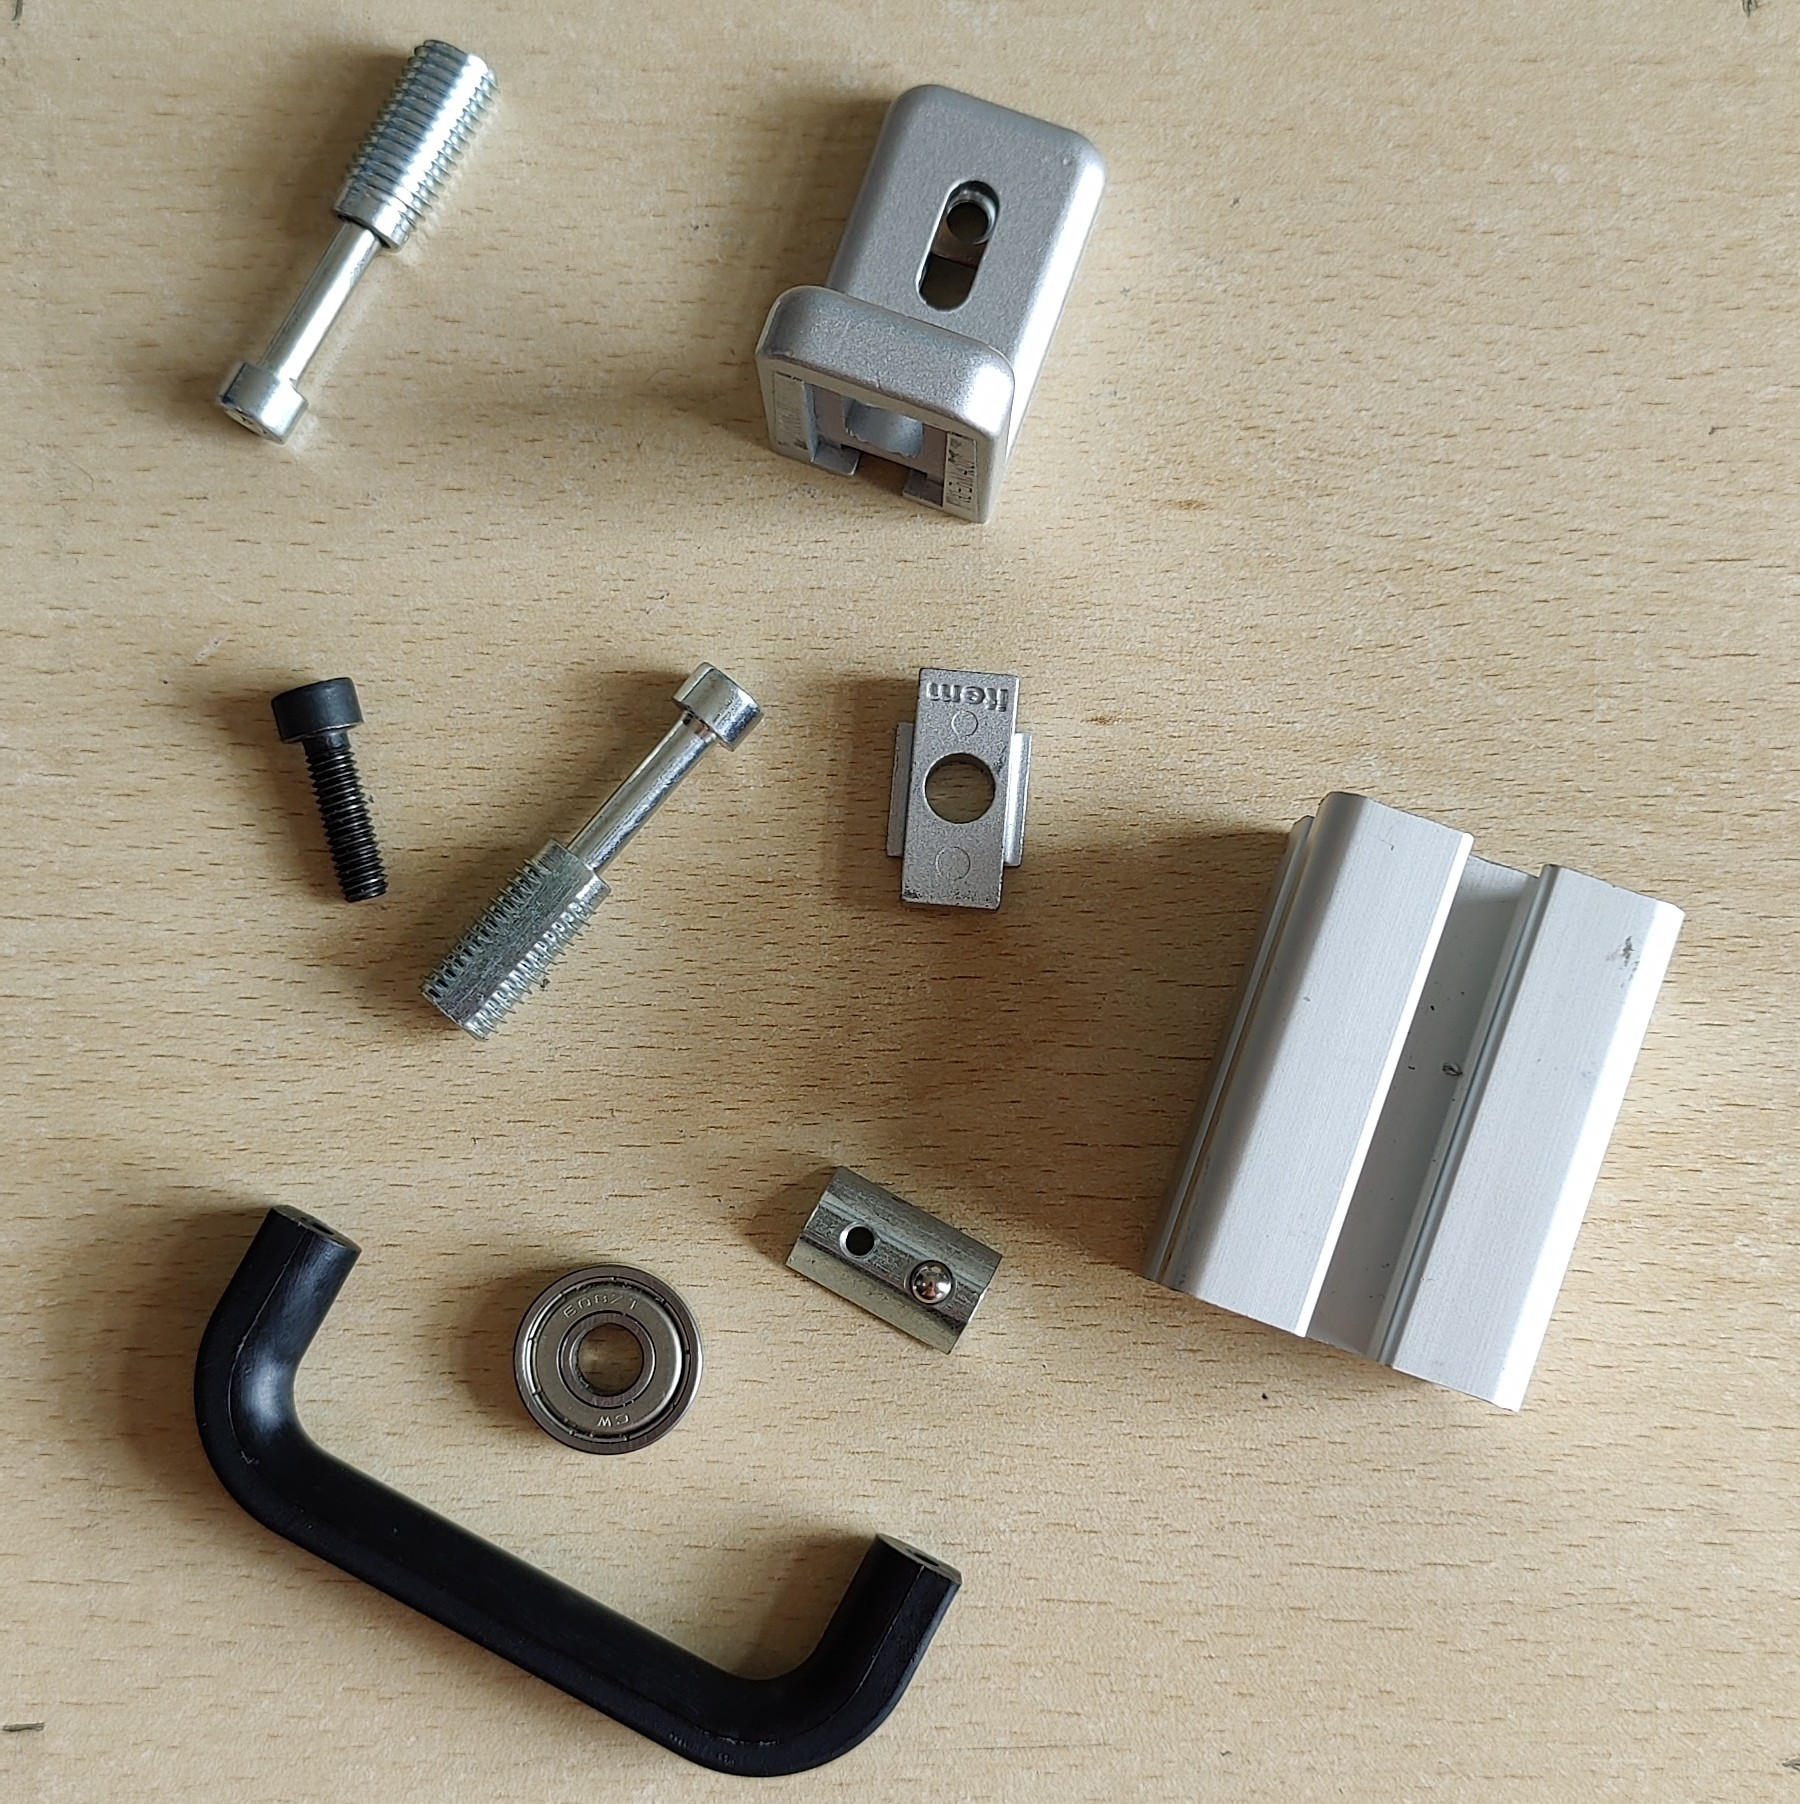Aluminium Extension: (1134, 788, 1690, 1416)
Ball Bearing: (509, 1261, 702, 1458)
Multiwinkel: (752, 79, 1109, 528)
Pull Handle: (190, 1200, 963, 1781)
Shoulder Socket Head Cap Screw: (415, 660, 766, 1045), (209, 36, 501, 445)
Socket Head Cap Screw: (265, 673, 392, 909)
T Nut Square: (880, 661, 1037, 915)
T Spring Nut: (778, 1163, 1005, 1357)
